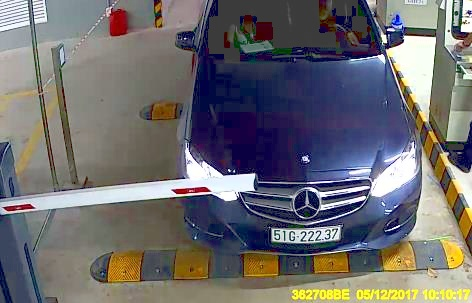plate: (267, 222, 344, 245)
